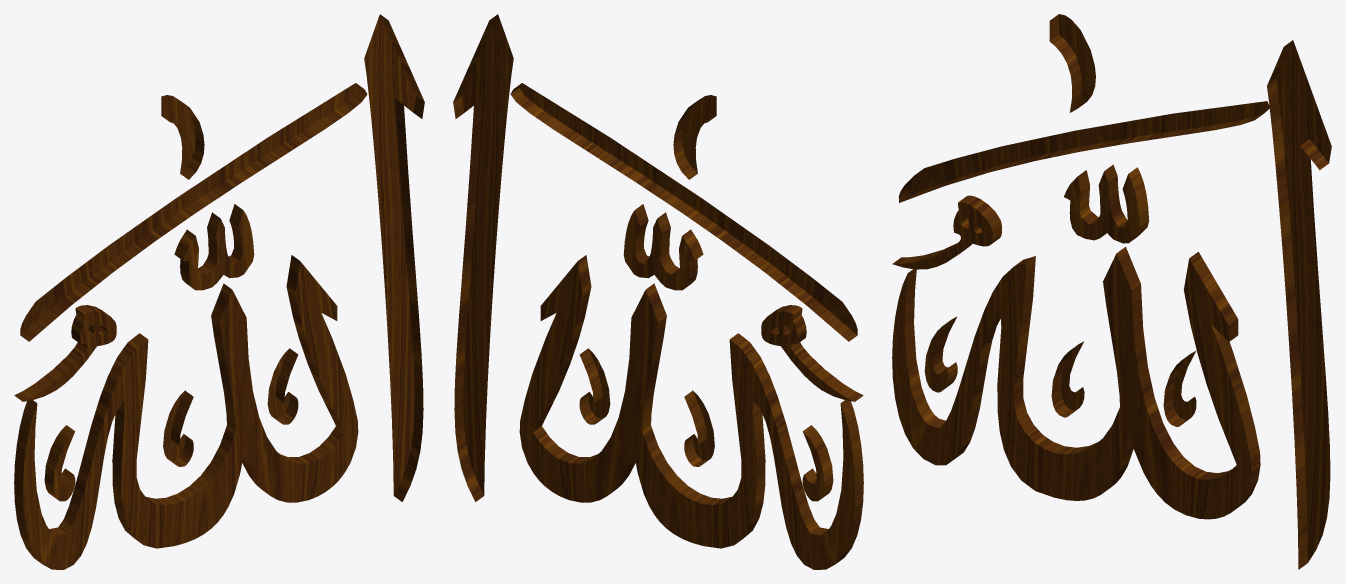
3 renders of one model, left to right at view 1: azimuth 30°, elevation 25°; view 2: azimuth 150°, elevation 25°; view 3: azimuth 330°, elevation 25°, orthographic. The views are drawn at different scales.
Parts seen in each view (by area): view 1: 1.008; view 2: 1.008; view 3: 1.008.
Boxes of the visible parts, bbox=[...] form: 1.008: bbox=[14, 14, 424, 569]; 1.008: bbox=[453, 14, 863, 569]; 1.008: bbox=[892, 14, 1331, 569].
Size of the model in its own units: 1.13 by 1.3 by 0.0427.
1 material, 1 textured.
